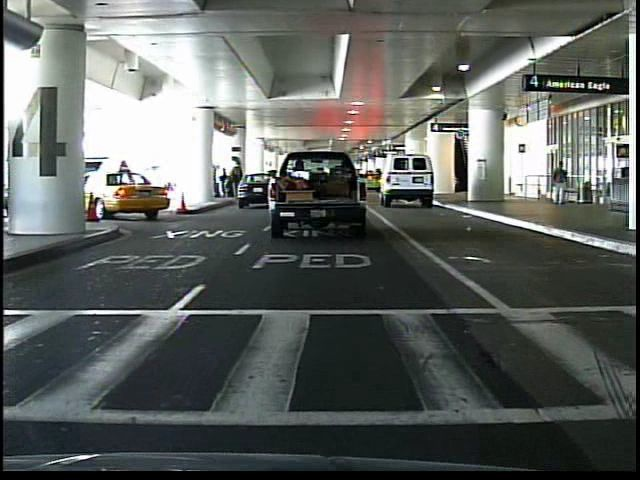person: (549, 158, 570, 210)
